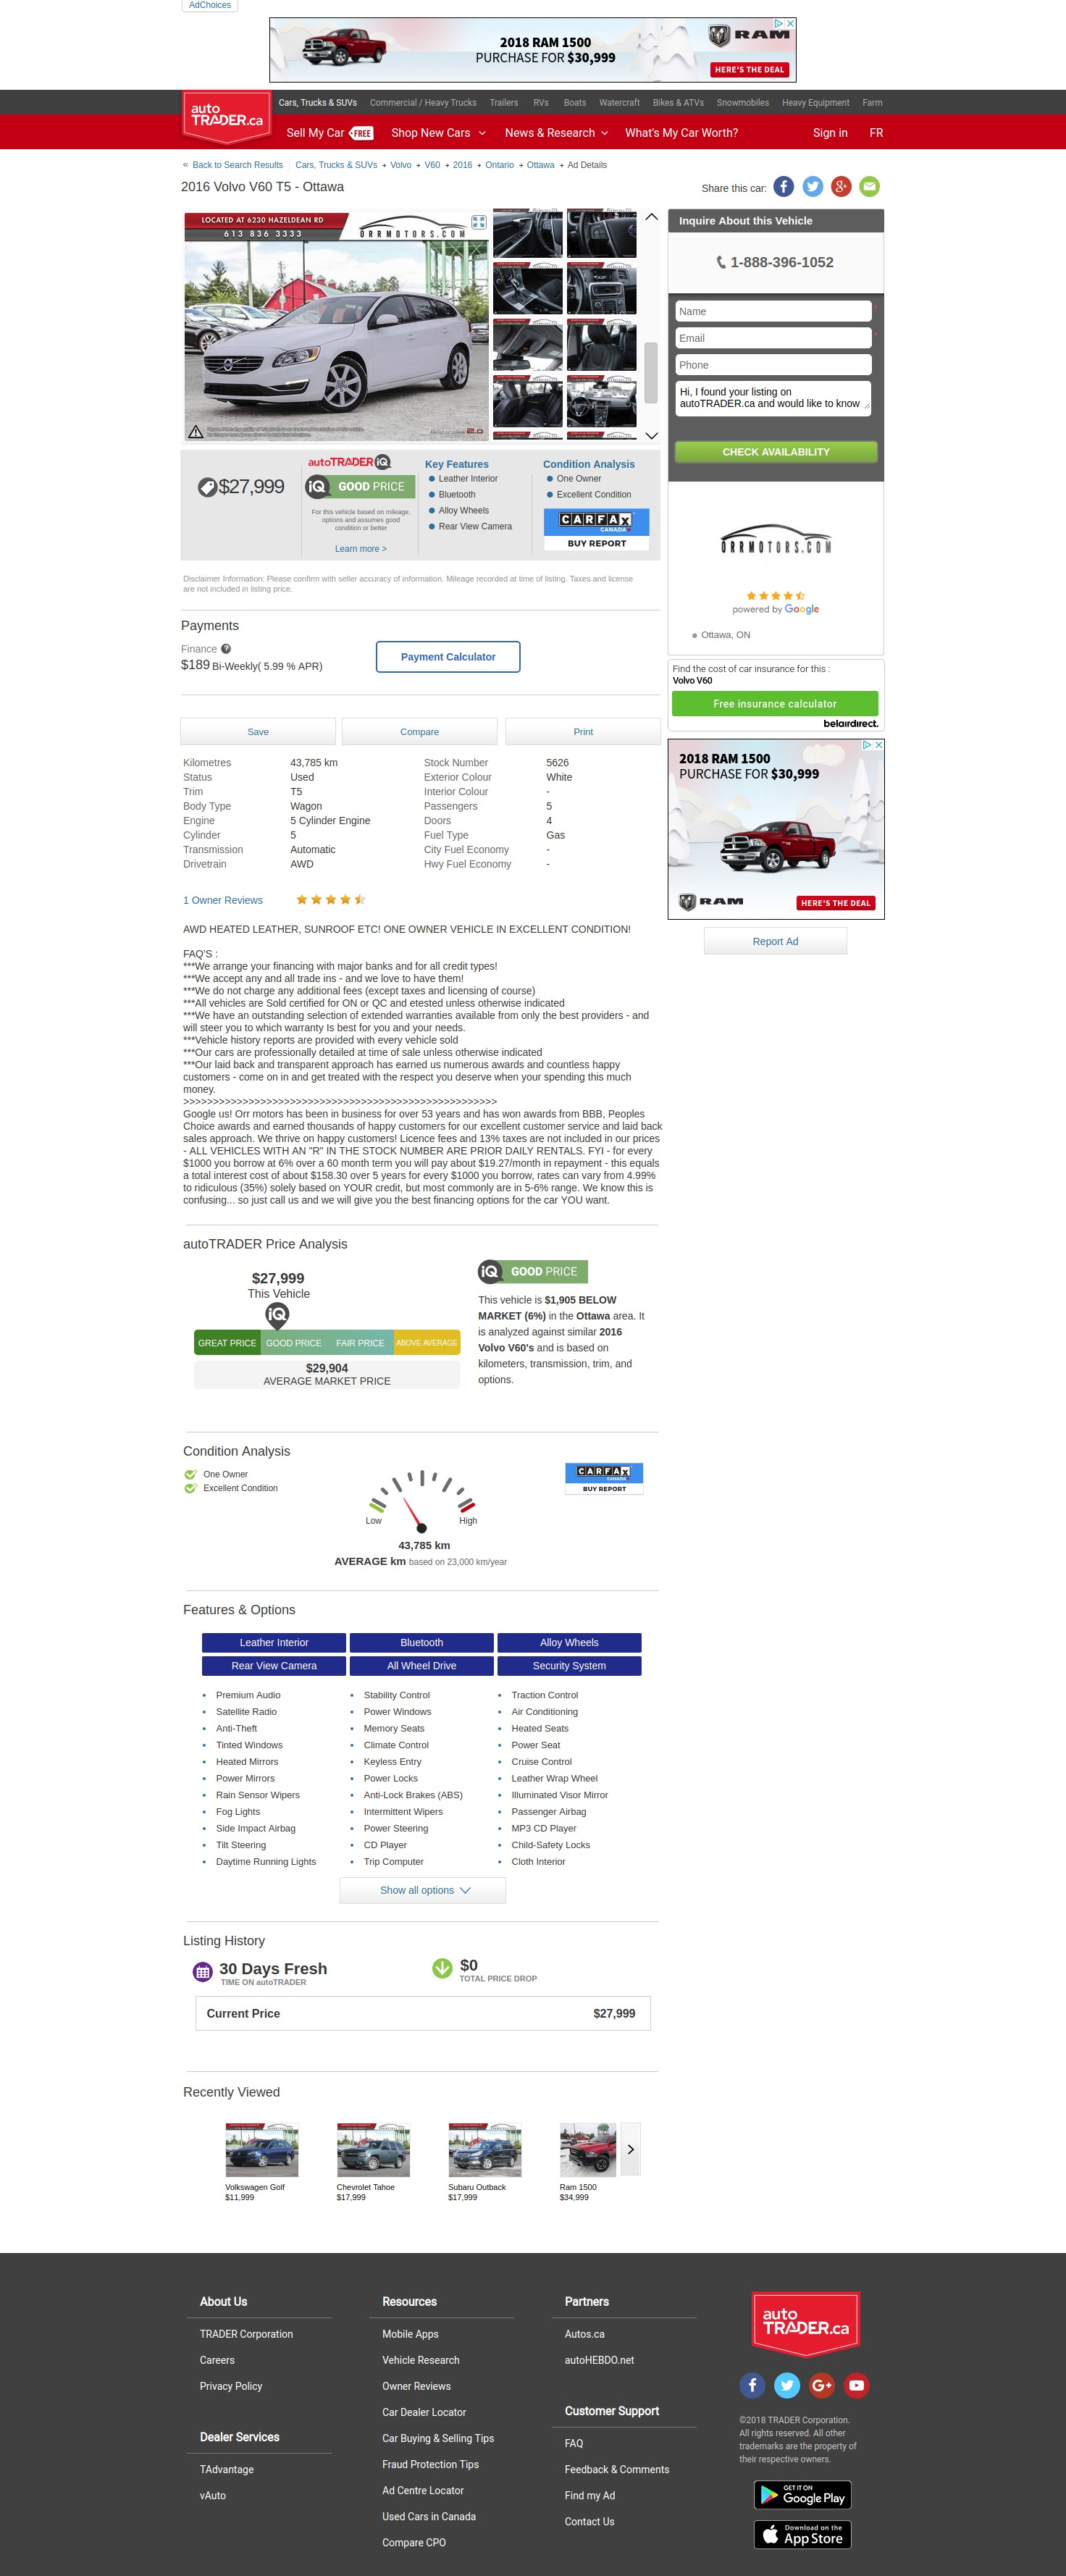car: (644, 430, 660, 442)
